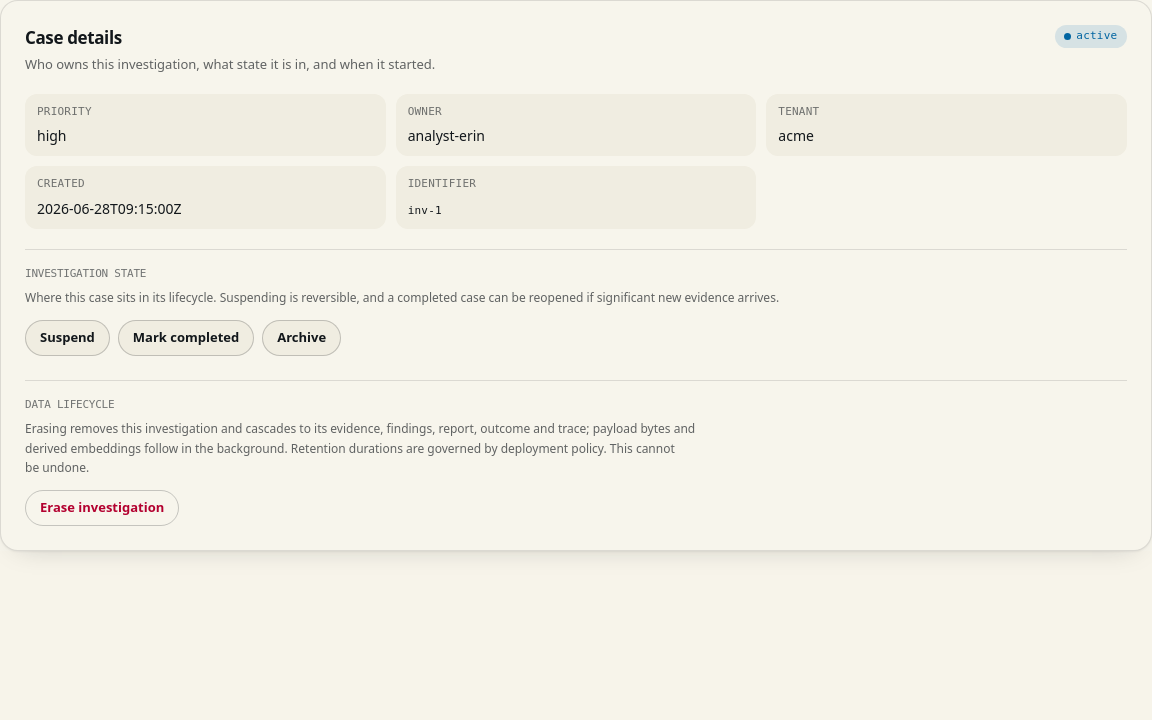
it: OverviewSection data lifecycle (ES-066) › can back out of the confirmation without erasing
The image size is (1152, 720).
Click the button "Erase investigation" at (102, 508), box [25,490,179,526]
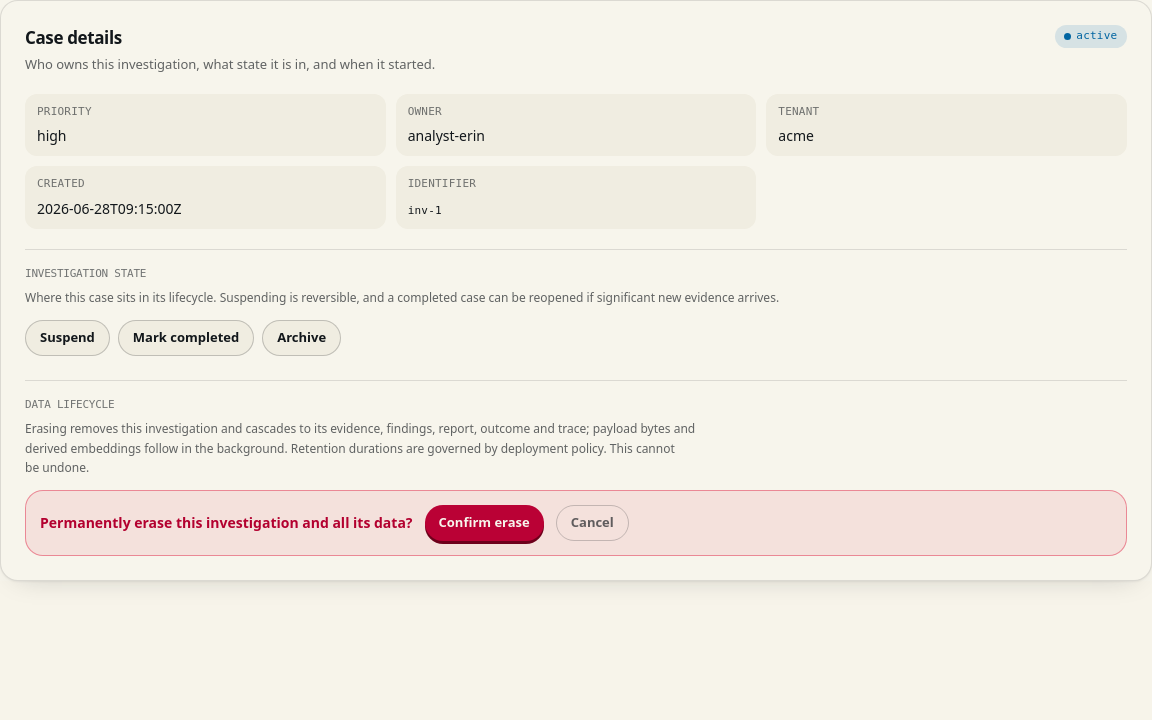
Click the button "Cancel" at (592, 523), box [556,505,629,541]
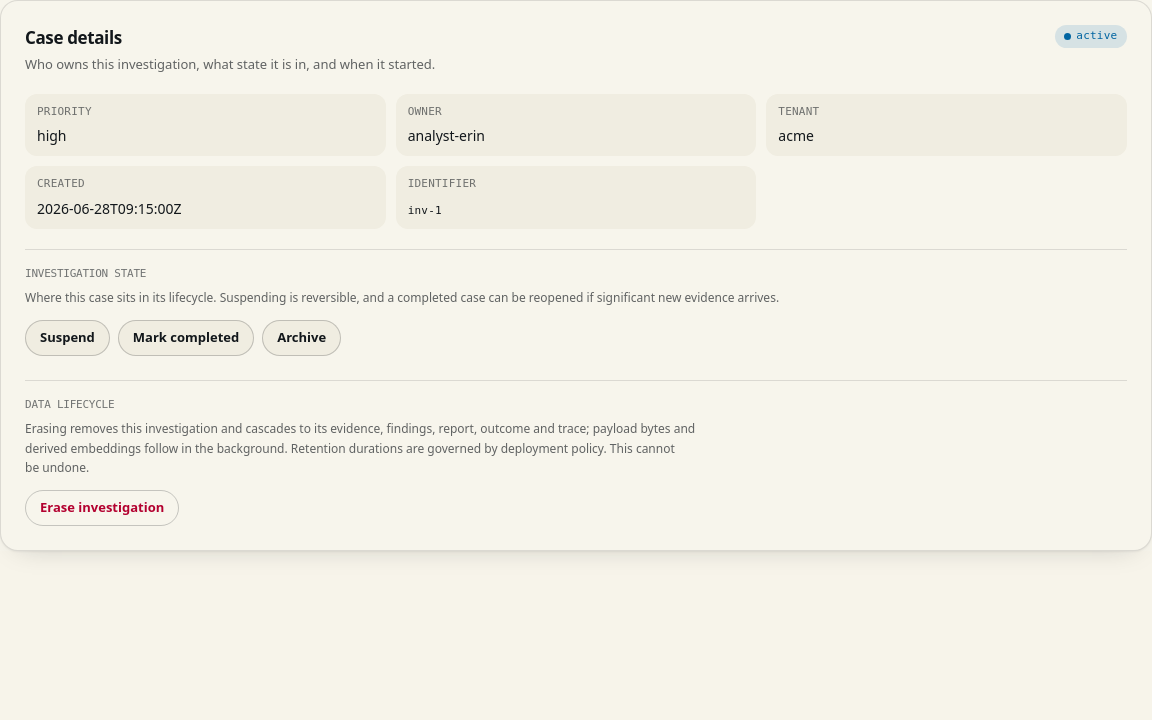
Expected: the button "Confirm erase" is gone
